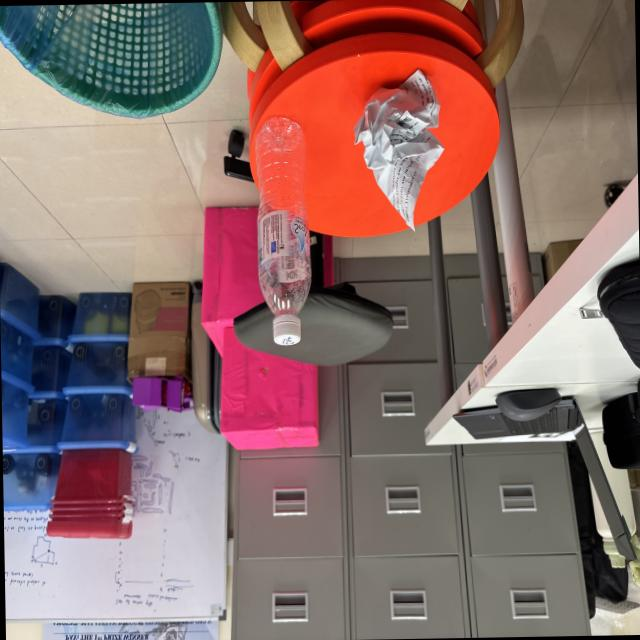crumpled_paper: (346, 62, 450, 235)
plastic_bottle: (248, 112, 316, 350)
